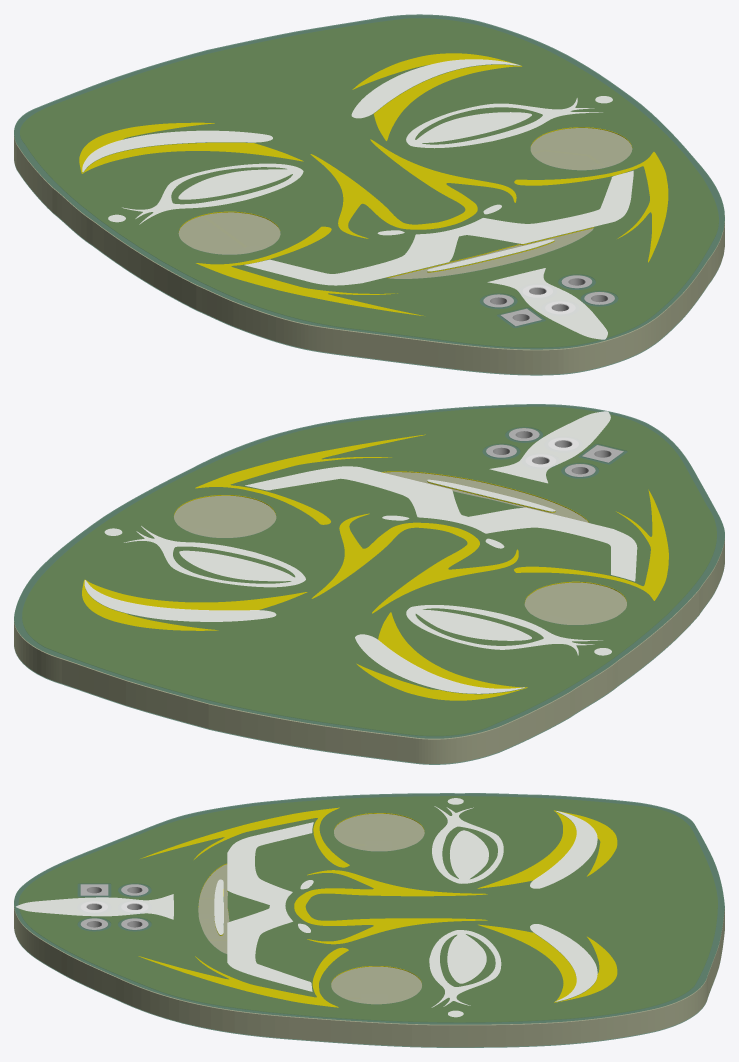
Rendered from offzone-2025-anonymous-add-on.glb.
The picture shows the model from 3 angles, top to bottom: view 1: azimuth 30°, elevation 25°; view 2: azimuth 150°, elevation 25°; view 3: azimuth 270°, elevation 25°; orthographic projection. The views are drawn at different scales.
Parts seen in each view (by area): view 1: =>[0:1:1:2], =>[0:1:1:6], =>[0:1:1:8], =>[0:1:1:4]; view 2: =>[0:1:1:2], =>[0:1:1:6], =>[0:1:1:8], =>[0:1:1:4]; view 3: =>[0:1:1:2], =>[0:1:1:6], =>[0:1:1:8], =>[0:1:1:4].
Part boxes in pixels (x1,y1,x2,y2): =>[0:1:1:2]: (20,19,718,347); =>[0:1:1:6]: (14,14,724,375); =>[0:1:1:8]: (14,16,724,374); =>[0:1:1:4]: (82,59,633,339); =>[0:1:1:2]: (22,407,716,735); =>[0:1:1:6]: (14,404,724,764); =>[0:1:1:8]: (14,405,724,763); =>[0:1:1:4]: (84,411,637,693); =>[0:1:1:2]: (19,796,717,1021); =>[0:1:1:6]: (14,793,724,1047); =>[0:1:1:8]: (14,794,724,1047); =>[0:1:1:4]: (16,798,597,1017).
Bounding box in the file's own units: 0.0344 × 0.00166 × 0.0447.
4 materials, 4 textured.
